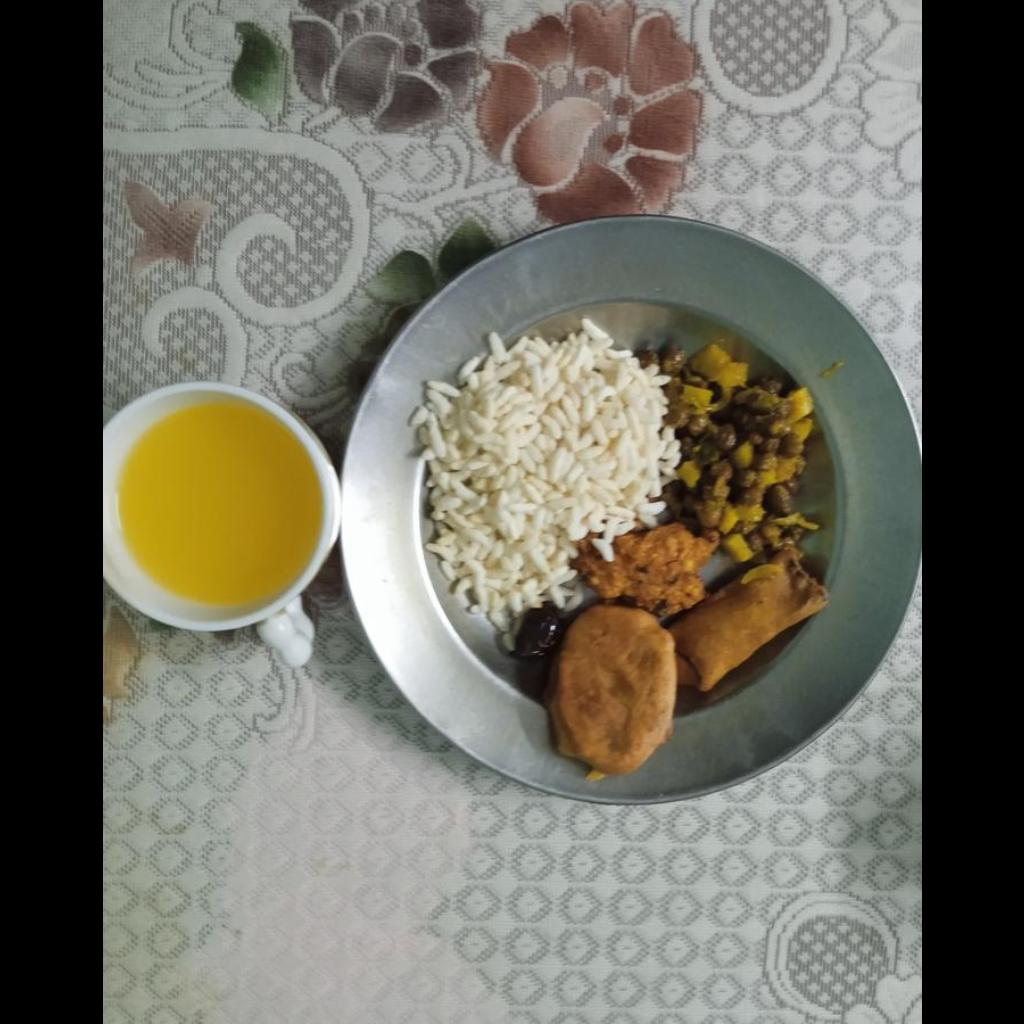beguni: (684, 552, 831, 692)
chola: (680, 344, 816, 531)
chop-alu: (547, 606, 671, 770)
juice: (112, 413, 321, 608)
piyaju: (576, 522, 715, 618)
puffed-rice: (413, 315, 684, 645)
